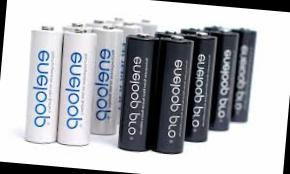battery: (148, 30, 201, 161), (116, 28, 161, 156), (20, 23, 66, 146), (56, 27, 100, 150), (176, 29, 220, 150), (200, 27, 242, 135)
